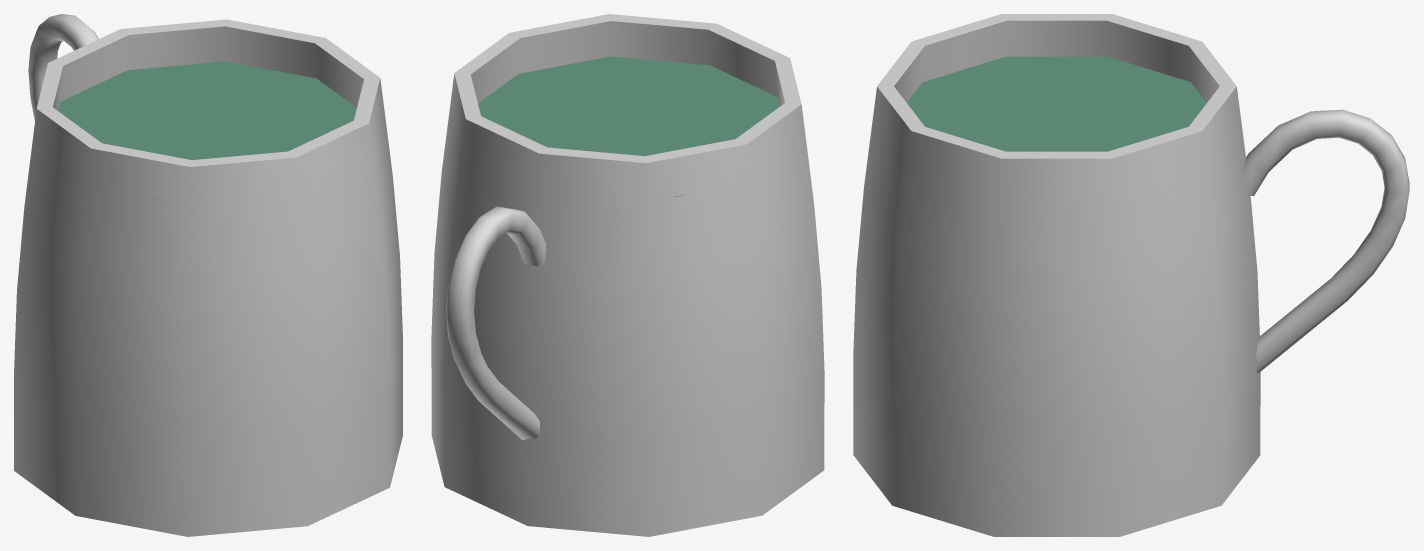
The model's file is SM_Green_Tea.fbx.
3 views of the same model, side by side, from view 1: azimuth 30°, elevation 25°; view 2: azimuth 150°, elevation 25°; view 3: azimuth 270°, elevation 25° (orthographic). The views are drawn at different scales.
Visible parts, largest first — view 1: Cylinder.014, Plane.048, NurbsPath; view 2: Cylinder.014, Plane.048, NurbsPath; view 3: Cylinder.014, Plane.048, NurbsPath.
Part boxes in pixels (x1=…): Cylinder.014: x1=14, y1=19, x2=402, y2=536; Plane.048: x1=58, y1=61, x2=356, y2=200; NurbsPath: x1=28, y1=14, x2=98, y2=120; Cylinder.014: x1=431, y1=14, x2=824, y2=536; Plane.048: x1=478, y1=56, x2=779, y2=196; NurbsPath: x1=446, y1=206, x2=546, y2=440; Cylinder.014: x1=853, y1=14, x2=1260, y2=536; Plane.048: x1=907, y1=56, x2=1206, y2=151; NurbsPath: x1=1244, y1=109, x2=1409, y2=373.
Size of the model in its own units: 22.04 by 23.16 by 31.65.
